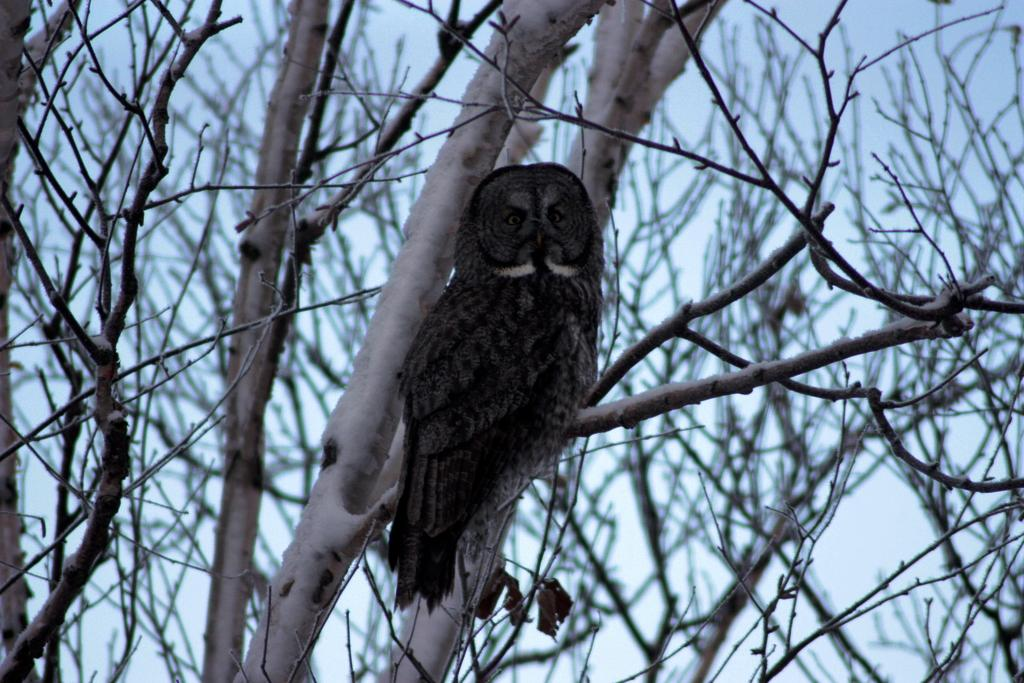Owl: (384, 163, 610, 612)
